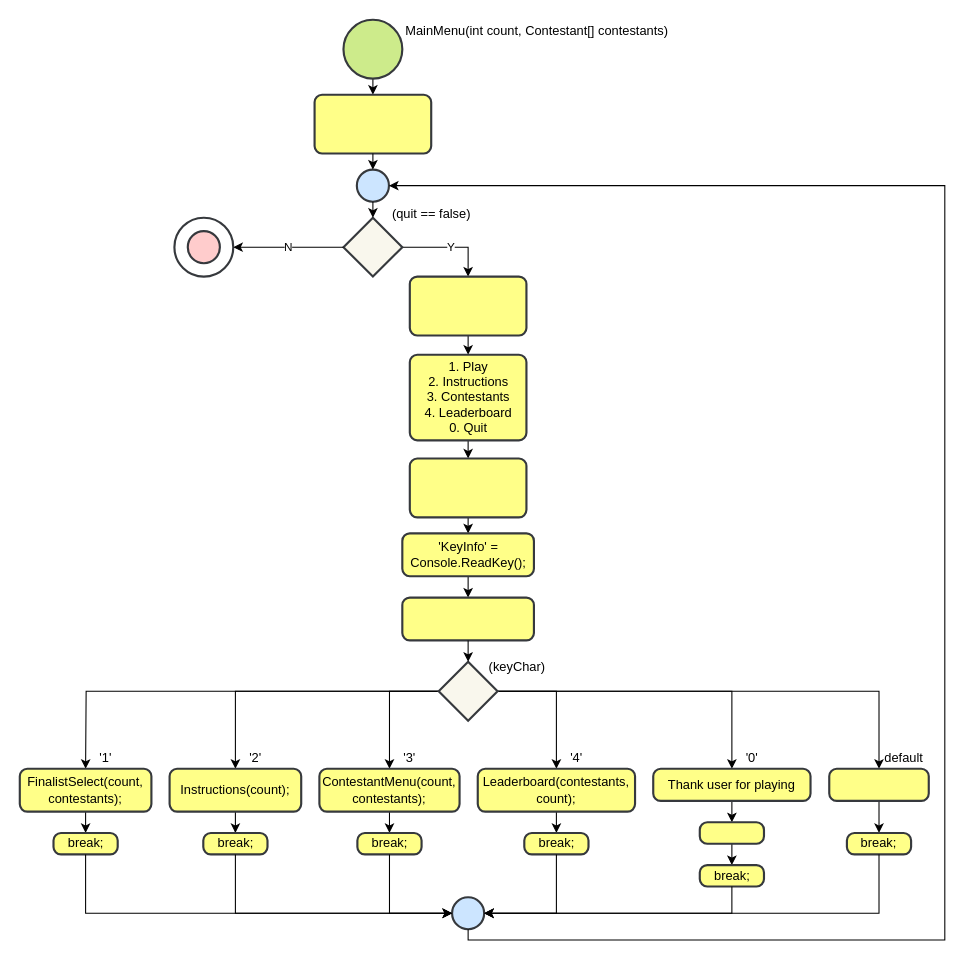
The diagram is 972 pixels wide and 967 high, and some of its shapes have lost their labels. The centre of each missing label's shape, as x and y in pixels:
Clear console, display main menu: (467,305)
Create 'quit' boolean, set to false: (372,123)
Create char 'keyChar' = keyInfo.keyChar;: (467,618)
Create ConsoleKeyInfo struct 'KeyInfo': (467,487)
InvalidInput();: (878,784)
quit = true: (731,832)
